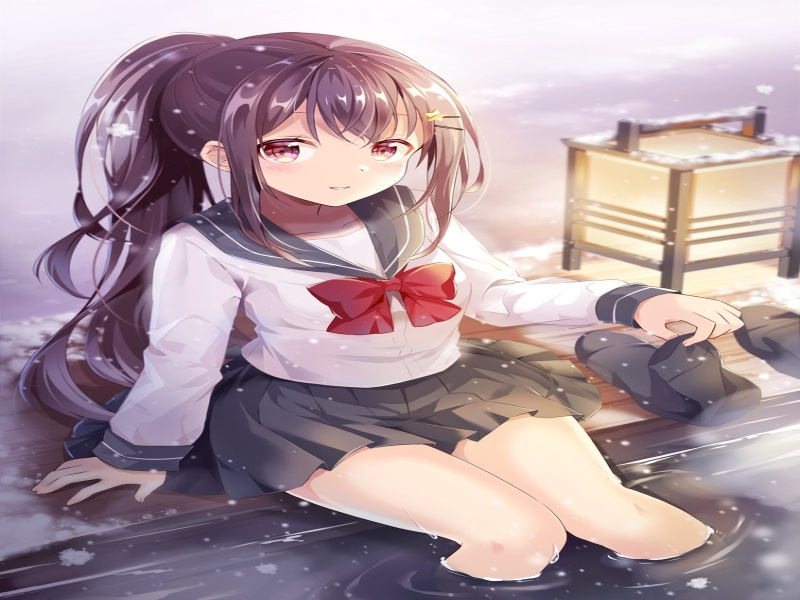dress: (212, 360, 613, 494)
person: (190, 47, 449, 220)
